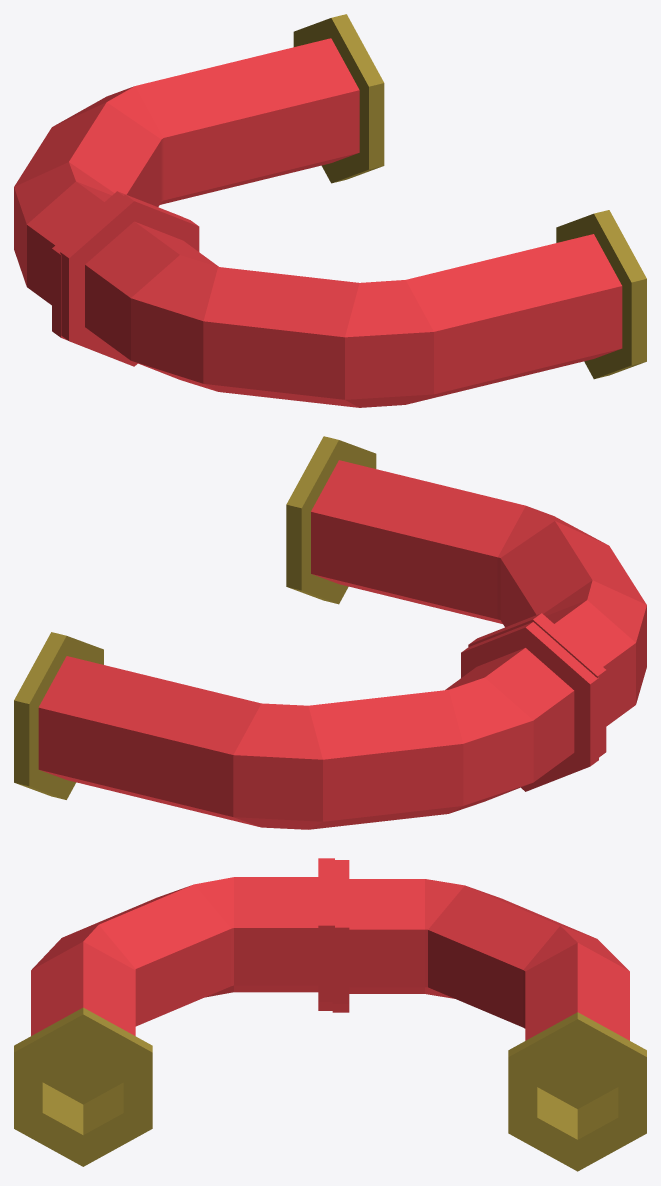
The model's file is handle.fbx.
3 renders of one model, top to bottom at view 1: azimuth 30°, elevation 25°; view 2: azimuth 150°, elevation 25°; view 3: azimuth 270°, elevation 25°, orthographic. The views are drawn at different scales.
Parts seen in each view (by area): view 1: Handle; view 2: Handle; view 3: Handle.
Boxes of the visible parts, x1,y1,x2,y2 form: Handle: (14, 14, 646, 407); Handle: (14, 436, 646, 829); Handle: (14, 858, 646, 1171).
Size of the model in its own units: 7.16 by 2.74 by 10.18.
